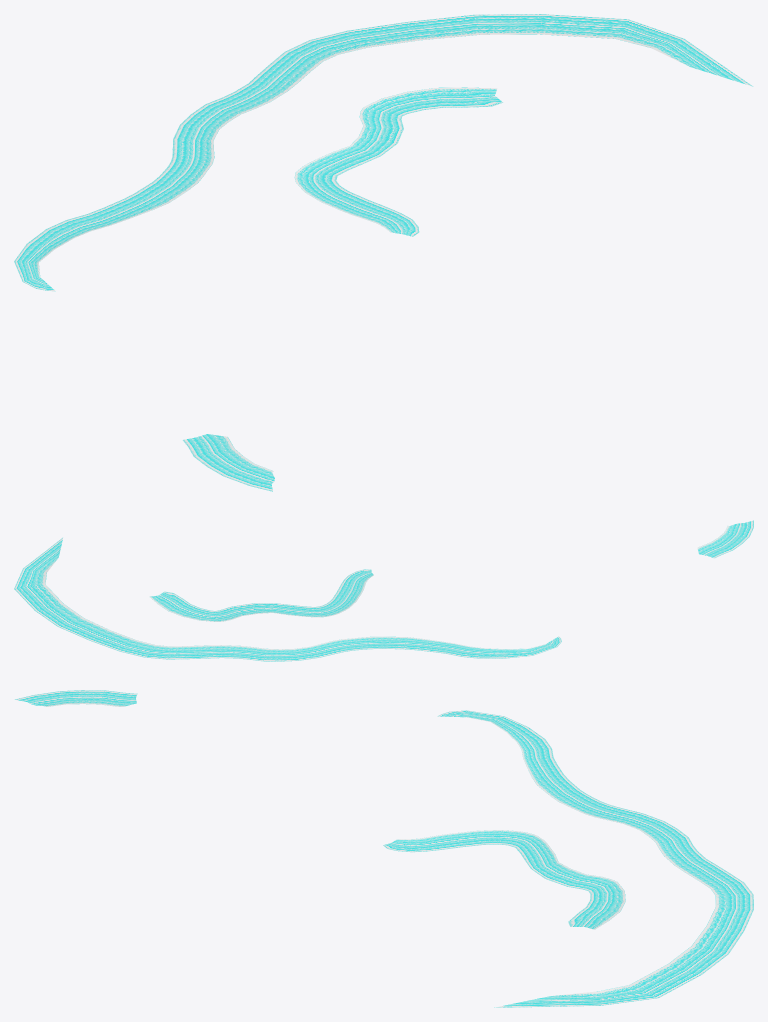
Rendered from FP_jog_island.md.030.obj.
3 views of the same model, one above another, from view 1: azimuth 30°, elevation 25°; view 2: azimuth 150°, elevation 25°; view 3: azimuth 270°, elevation 25° (orthographic). The views are drawn at different scales.
Parts seen in each view (by area): view 1: FP_jog_island.mo.030; view 2: FP_jog_island.mo.030; view 3: FP_jog_island.mo.030.
Part boxes in pixels (x1,y1,x2,y2): FP_jog_island.mo.030: [14, 14, 753, 491]; FP_jog_island.mo.030: [14, 520, 753, 661]; FP_jog_island.mo.030: [15, 690, 753, 1007].
Bounding box in the file's own units: 160 × 0.312 × 158.
Materials: 1 (1 with a texture image).
